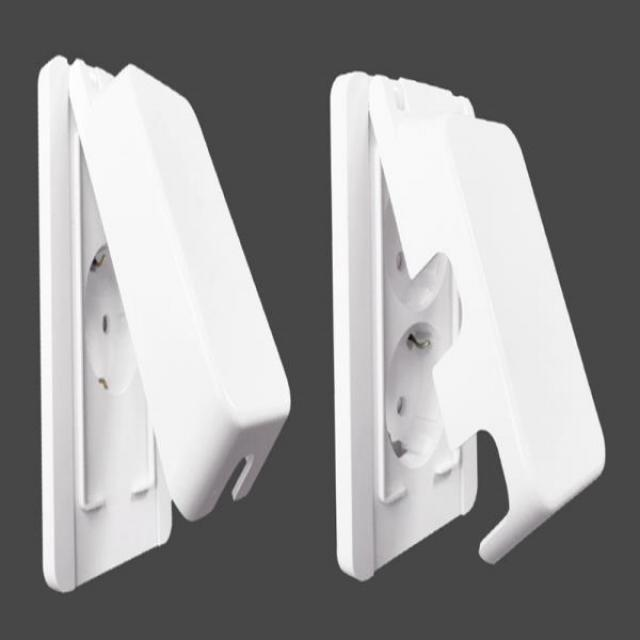typeb: (310, 23, 592, 640), (20, 34, 305, 640)
